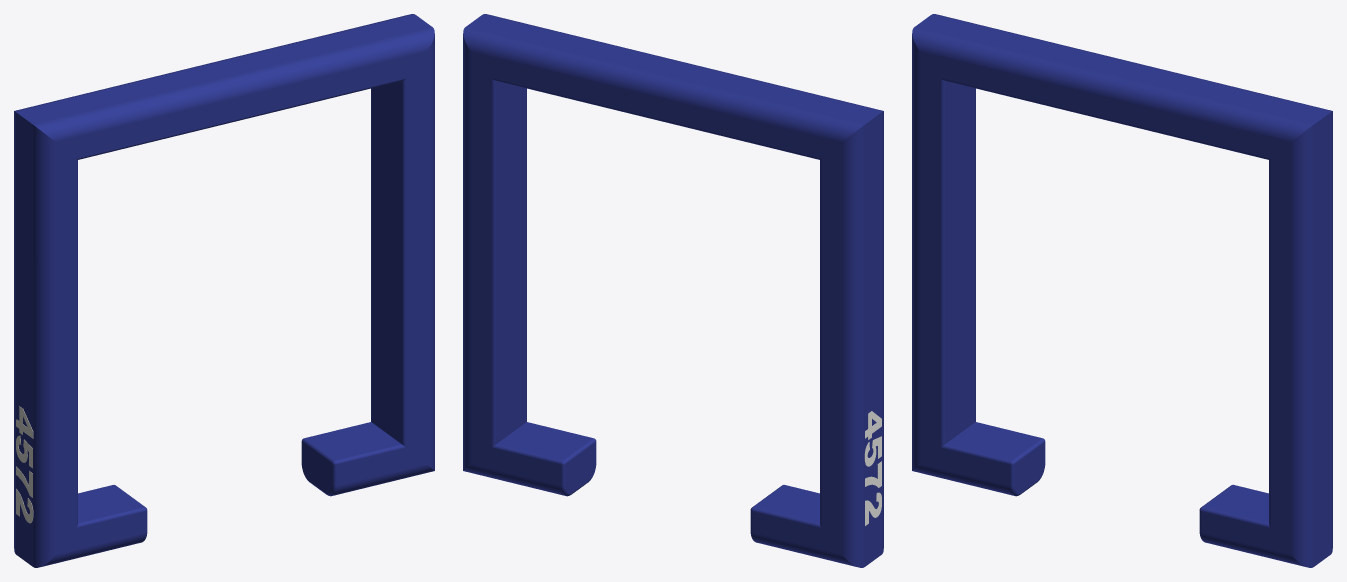
The model's file is Bumpers.fbx.
3 renders of one model, left to right at view 1: azimuth 30°, elevation 25°; view 2: azimuth 150°, elevation 25°; view 3: azimuth 330°, elevation 25°, orthographic.
Visible parts, largest first — view 1: Body1; view 2: Body1; view 3: Body1.
Boxes of the visible parts, <box> form: Body1: <box>14,14,434,567</box>; Body1: <box>463,14,883,567</box>; Body1: <box>912,14,1332,567</box>.
Bounding box in the file's own units: 34.52 × 36.5 × 5.
